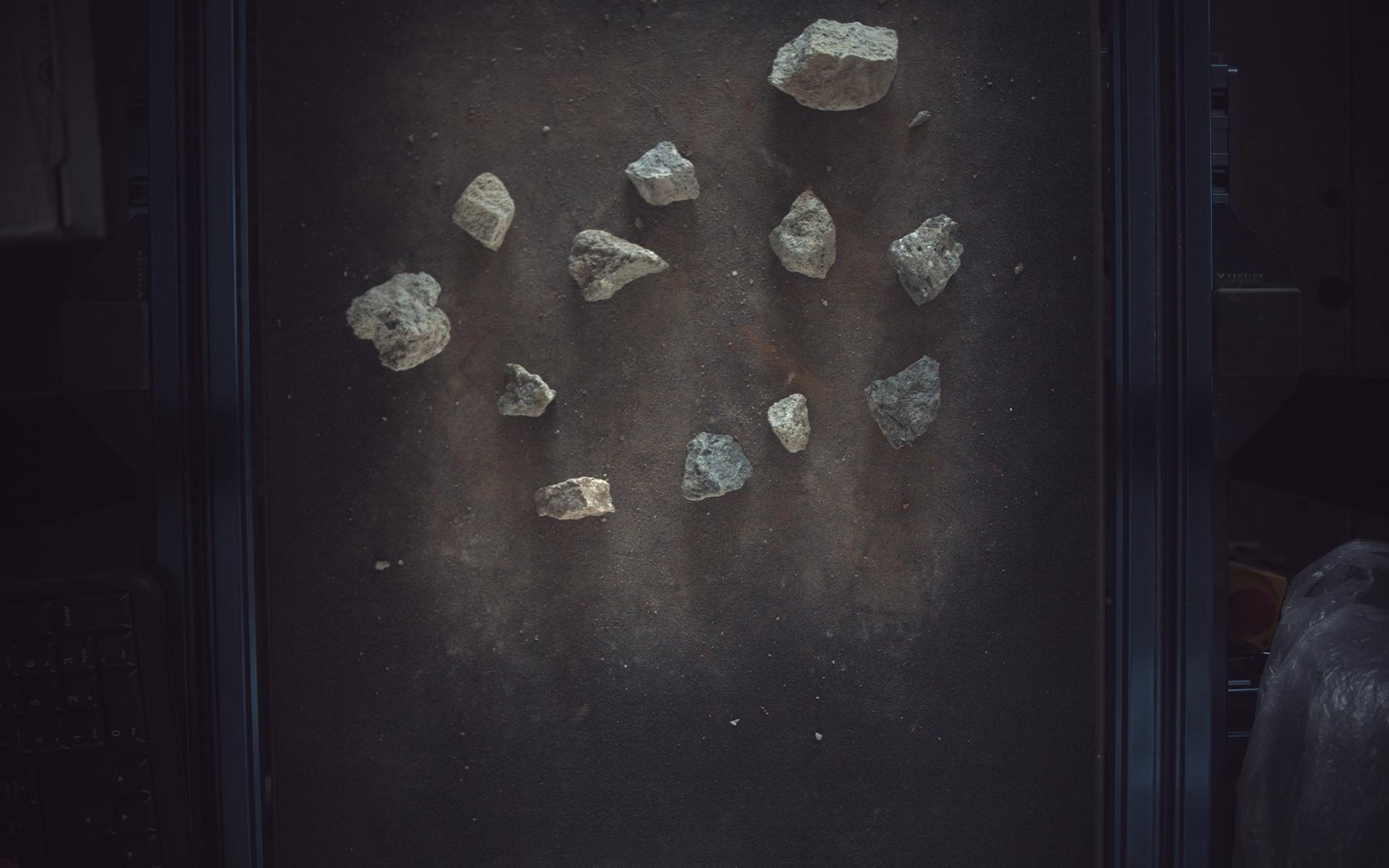concrete: (770, 17, 900, 110), (346, 272, 450, 371), (867, 355, 943, 449), (569, 229, 668, 301), (889, 213, 966, 305), (770, 188, 837, 278), (453, 171, 515, 250), (626, 140, 701, 205), (683, 432, 752, 501), (535, 477, 615, 520), (498, 364, 556, 417), (768, 393, 812, 454)
